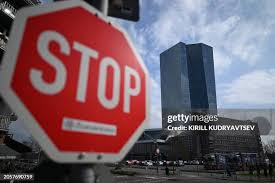stop sign: (1, 1, 150, 165)
